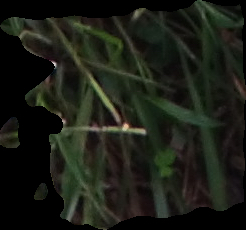grass: (1, 1, 245, 228)
